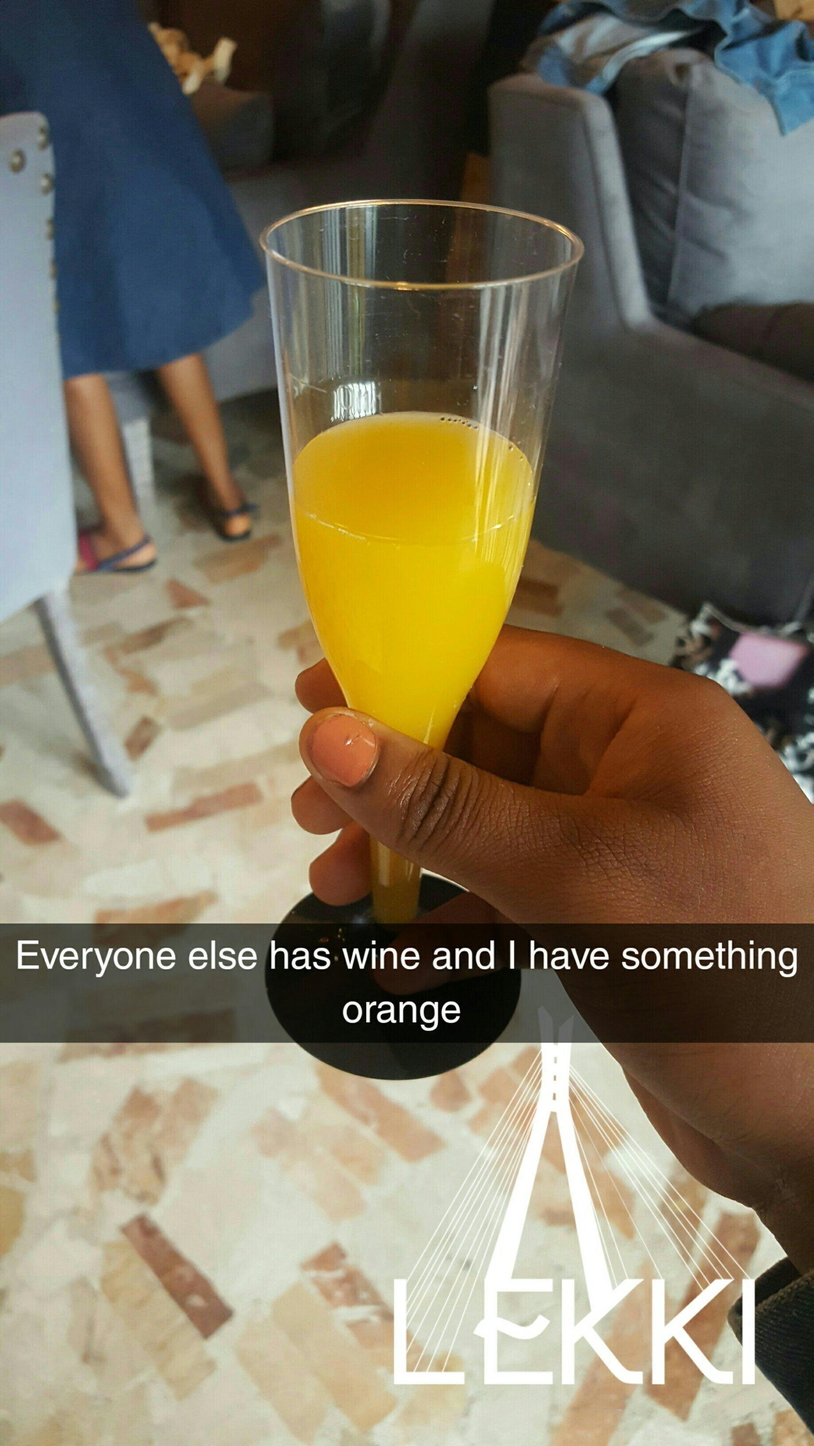glass-wine: (259, 196, 588, 1076)
